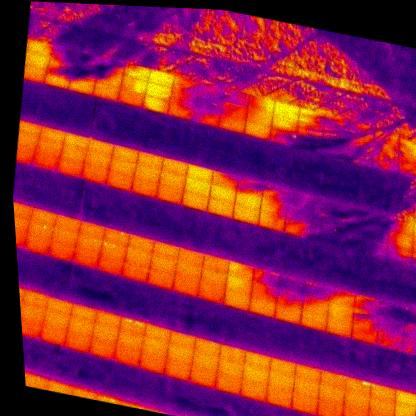Diode: (343, 377, 371, 398), (369, 383, 397, 404)
Hotspot: (26, 220, 55, 243), (47, 241, 76, 263), (118, 316, 146, 337), (192, 338, 220, 359), (218, 345, 246, 366), (20, 290, 49, 310), (74, 233, 103, 252), (318, 371, 347, 390), (53, 214, 81, 233), (102, 227, 130, 246), (99, 240, 127, 259), (124, 248, 152, 267), (121, 63, 149, 81), (25, 373, 49, 389)
Normal: (171, 274, 201, 298), (274, 303, 303, 326), (31, 150, 60, 172), (206, 196, 235, 218), (97, 254, 126, 276), (142, 325, 171, 347), (87, 339, 116, 361), (113, 345, 142, 367), (188, 367, 217, 389), (185, 164, 215, 185), (224, 276, 254, 297), (325, 303, 355, 324), (248, 296, 278, 317), (299, 310, 329, 331), (242, 351, 272, 372), (56, 156, 84, 178), (73, 248, 101, 270), (293, 363, 321, 385), (317, 385, 345, 407), (214, 374, 242, 396), (243, 119, 272, 140), (86, 138, 115, 159), (80, 164, 109, 185), (155, 184, 184, 205), (151, 241, 180, 262), (201, 254, 230, 275), (226, 261, 255, 282), (174, 261, 203, 282), (199, 268, 228, 289), (146, 268, 175, 289), (222, 290, 251, 311), (167, 332, 196, 353), (267, 359, 296, 380), (190, 352, 219, 373), (291, 380, 320, 401), (239, 381, 268, 402), (264, 388, 293, 409), (114, 331, 144, 351), (240, 366, 270, 386), (38, 326, 68, 346), (162, 360, 192, 380), (68, 75, 96, 96), (117, 87, 145, 108), (130, 177, 158, 198), (181, 190, 209, 211), (176, 248, 204, 269), (342, 392, 370, 413), (290, 394, 318, 415), (160, 157, 189, 177), (183, 177, 212, 197), (121, 262, 150, 282), (196, 284, 225, 304), (325, 318, 354, 338), (92, 310, 121, 330), (66, 319, 95, 339), (165, 346, 194, 366), (137, 355, 166, 375), (217, 114, 247, 133), (208, 184, 238, 203), (41, 312, 71, 331), (139, 341, 169, 360), (119, 75, 147, 95), (144, 82, 172, 102), (43, 69, 71, 89), (92, 82, 120, 102), (111, 144, 139, 164), (136, 151, 164, 171), (108, 158, 136, 178), (134, 164, 162, 184), (234, 190, 262, 210), (106, 171, 134, 191), (233, 205, 261, 225), (147, 68, 175, 88), (77, 221, 106, 240), (49, 229, 78, 248), (149, 255, 178, 274), (69, 305, 98, 324), (90, 325, 119, 344), (215, 360, 244, 379), (266, 373, 295, 392), (63, 333, 92, 352), (272, 101, 300, 120), (142, 94, 170, 113), (38, 126, 66, 145), (62, 132, 90, 151), (83, 152, 111, 171), (158, 171, 186, 190), (29, 207, 57, 226), (126, 235, 154, 254), (44, 298, 72, 317), (26, 39, 54, 58), (270, 114, 299, 132), (20, 306, 47, 325), (244, 107, 274, 124), (23, 52, 51, 70), (59, 145, 87, 163), (367, 399, 396, 416), (35, 139, 63, 156), (21, 319, 44, 339), (24, 237, 51, 254), (315, 401, 344, 416), (340, 406, 370, 416), (366, 413, 395, 416)
Shadow: (371, 126, 401, 149), (359, 223, 389, 246), (385, 228, 415, 251), (277, 271, 307, 294), (360, 207, 391, 229), (283, 202, 314, 224), (383, 244, 414, 266), (358, 238, 388, 260), (302, 279, 332, 301), (336, 201, 365, 223), (310, 208, 339, 230), (352, 293, 381, 315), (250, 282, 279, 304), (282, 218, 312, 239), (378, 298, 408, 319), (275, 288, 305, 309), (369, 142, 400, 162), (211, 169, 239, 191), (236, 175, 264, 197), (257, 211, 285, 233), (268, 126, 297, 147), (386, 215, 415, 236), (252, 267, 281, 288), (377, 314, 406, 335), (350, 324, 379, 345), (375, 330, 405, 350), (50, 43, 80, 63), (94, 67, 122, 88), (196, 79, 225, 99), (69, 62, 98, 82), (194, 93, 223, 113), (219, 100, 248, 120), (321, 126, 350, 146), (320, 140, 349, 160), (260, 181, 289, 201), (285, 188, 314, 208), (310, 194, 339, 214), (333, 231, 362, 251), (327, 288, 356, 308), (351, 308, 380, 328), (172, 73, 200, 93), (168, 101, 196, 121), (192, 107, 220, 127), (259, 196, 287, 216), (309, 225, 337, 245), (301, 295, 329, 315), (297, 107, 326, 126), (323, 113, 352, 132), (169, 88, 198, 107), (296, 119, 325, 138), (294, 134, 323, 153), (47, 56, 74, 76), (335, 218, 363, 237), (221, 88, 250, 106), (247, 95, 276, 113), (96, 57, 126, 74), (396, 132, 416, 154), (395, 148, 416, 168), (395, 162, 416, 182), (77, 52, 99, 67)
